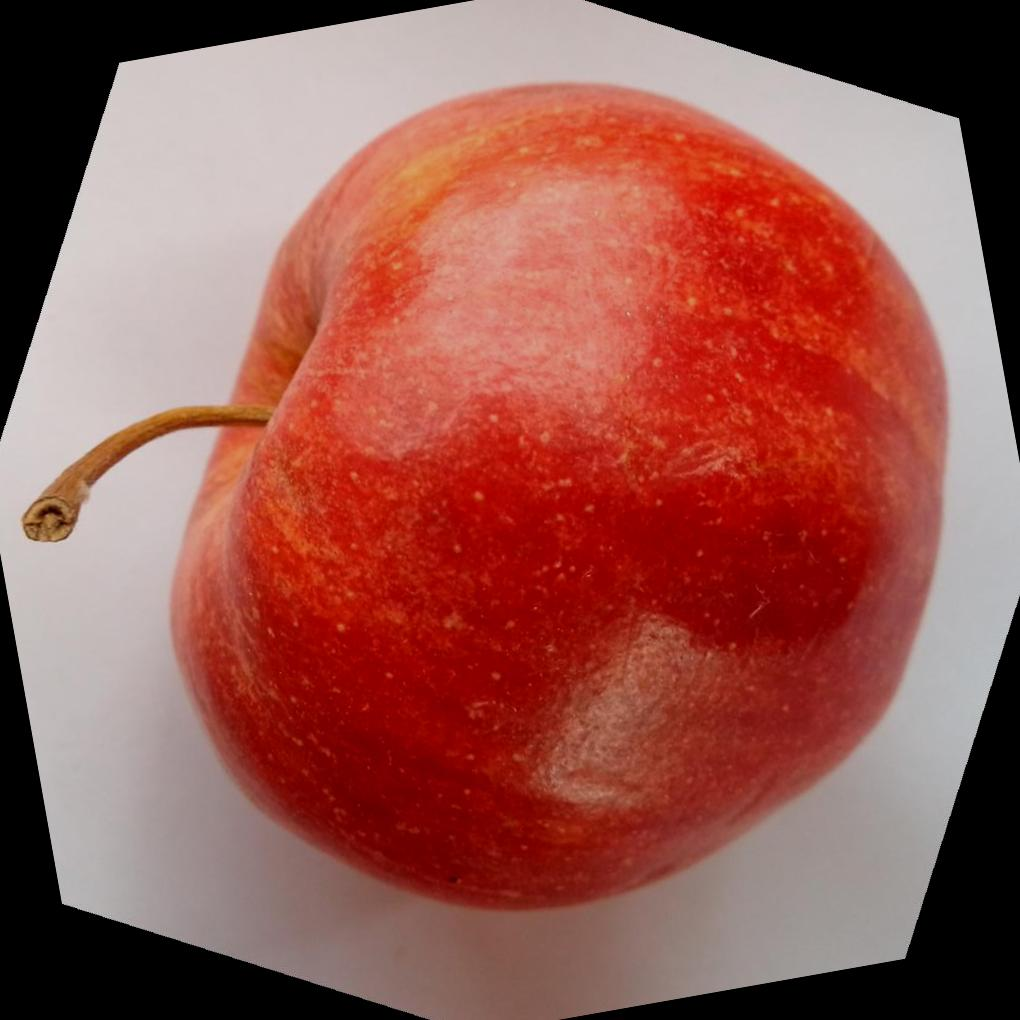FreshGuava: (24, 79, 954, 915)
